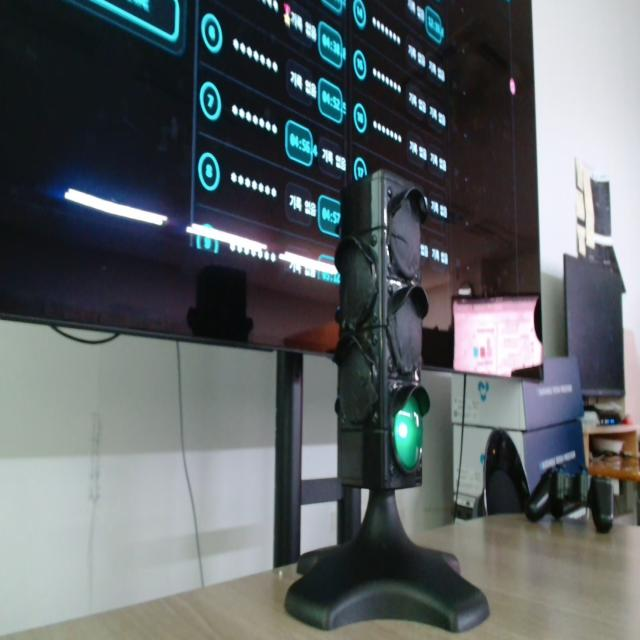green_light: (394, 396, 422, 472)
